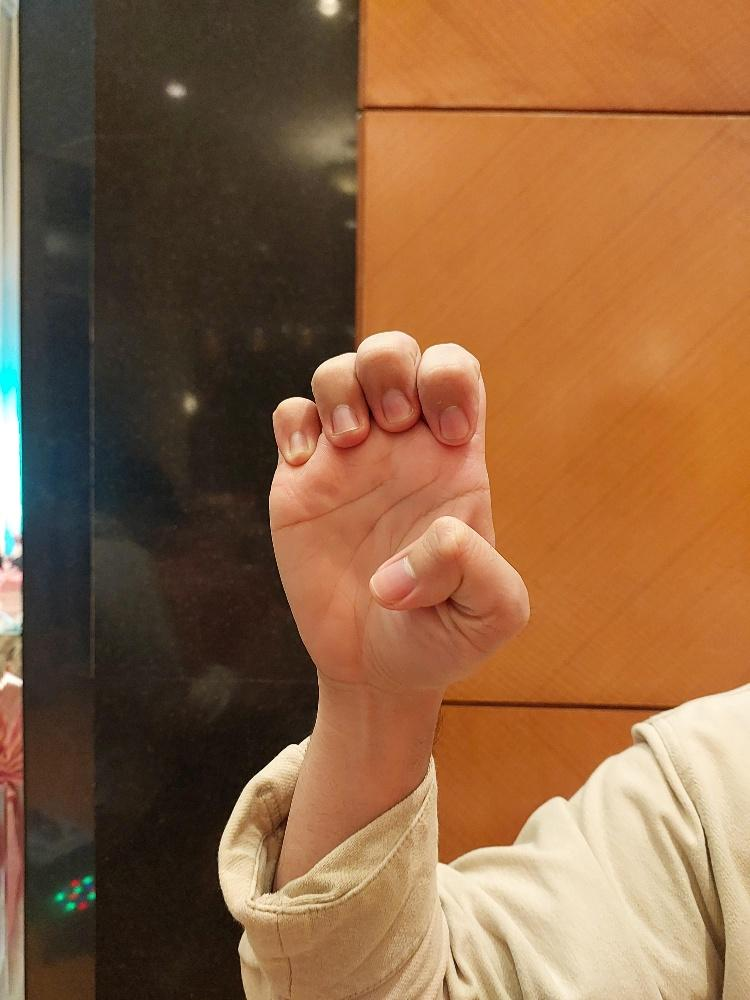e: (263, 328, 531, 689)
